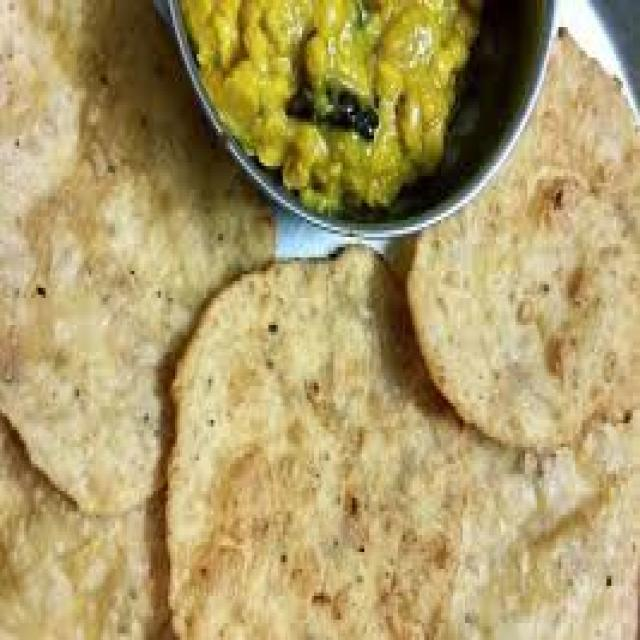potato: (189, 10, 509, 120)
puri: (196, 274, 640, 636), (7, 24, 187, 634), (358, 0, 543, 64)
